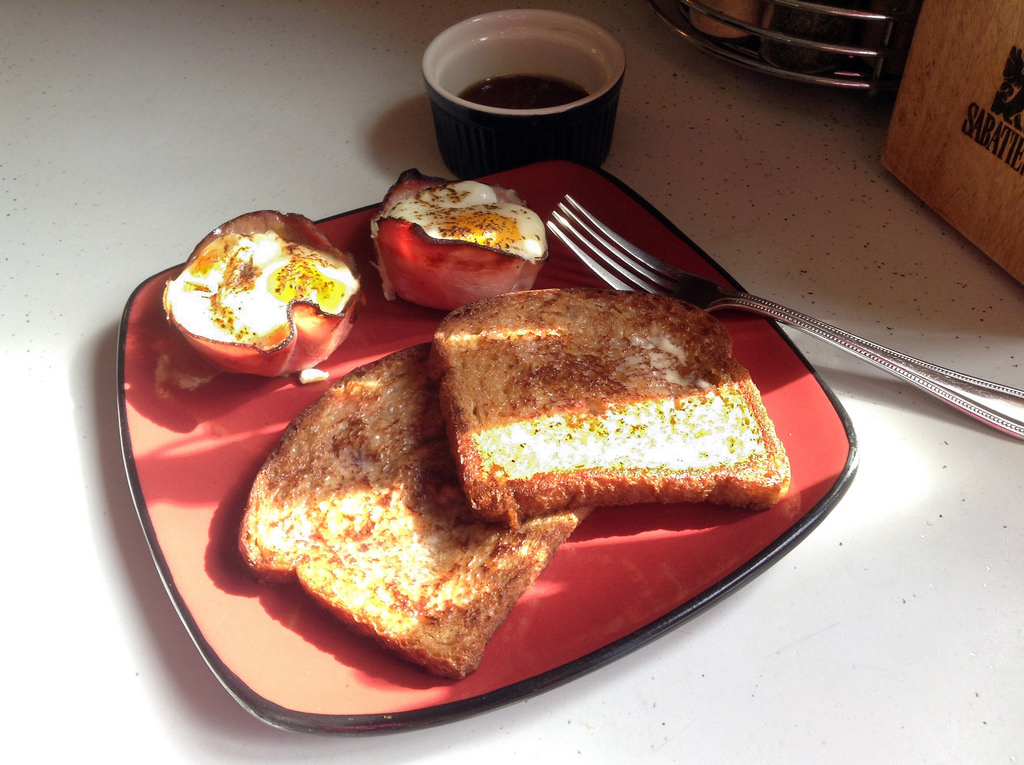fried egg: (195, 231, 347, 339), (417, 181, 535, 259)
slice of bread: (231, 291, 795, 668), (442, 310, 779, 507)
